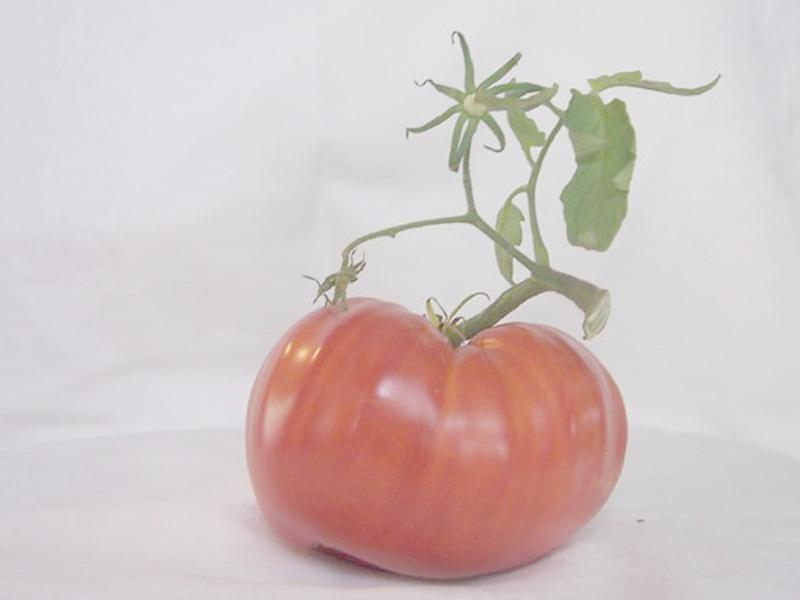Tomato: (244, 298, 629, 581)
